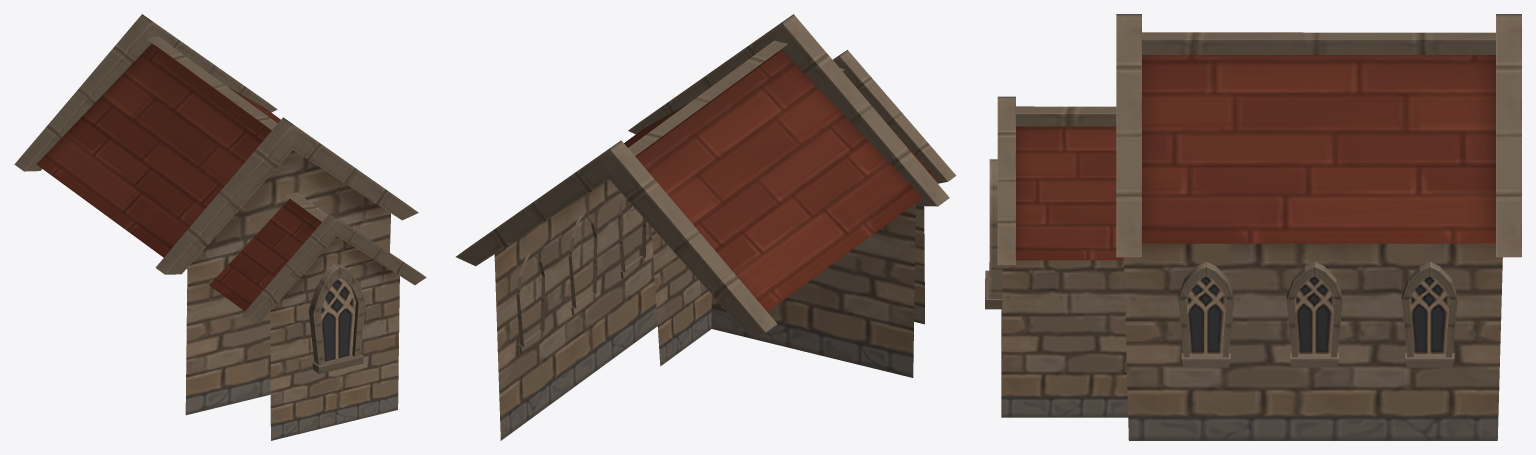
Rendered from mine_prop_6.FBX.
3 views of the same model, side by side, from view 1: azimuth 30°, elevation 25°; view 2: azimuth 150°, elevation 25°; view 3: azimuth 270°, elevation 25° (orthographic). The views are drawn at different scales.
Visible parts, largest first — view 1: mine_prop_008; view 2: mine_prop_008; view 3: mine_prop_008.
Boxes of the visible parts, bbox=[...] form: mine_prop_008: bbox=[14, 14, 426, 440]; mine_prop_008: bbox=[456, 14, 956, 440]; mine_prop_008: bbox=[985, 14, 1521, 440].
Bounding box in the file's own units: 114 × 116 × 155.
